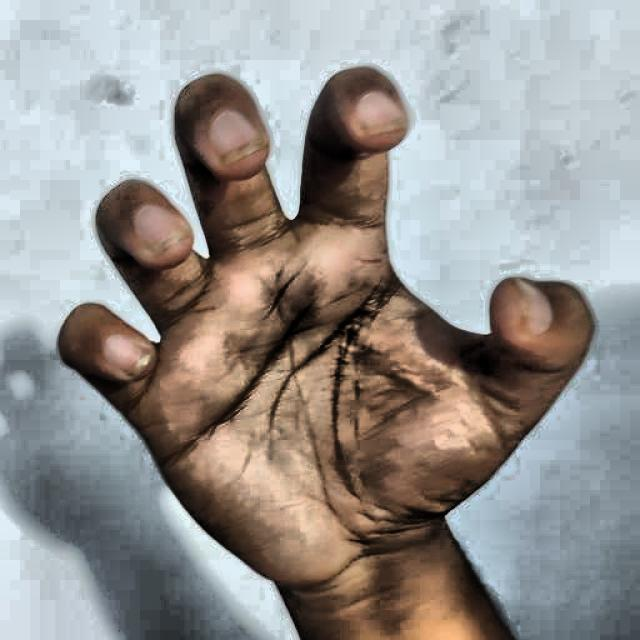Ja: (41, 36, 607, 638)
